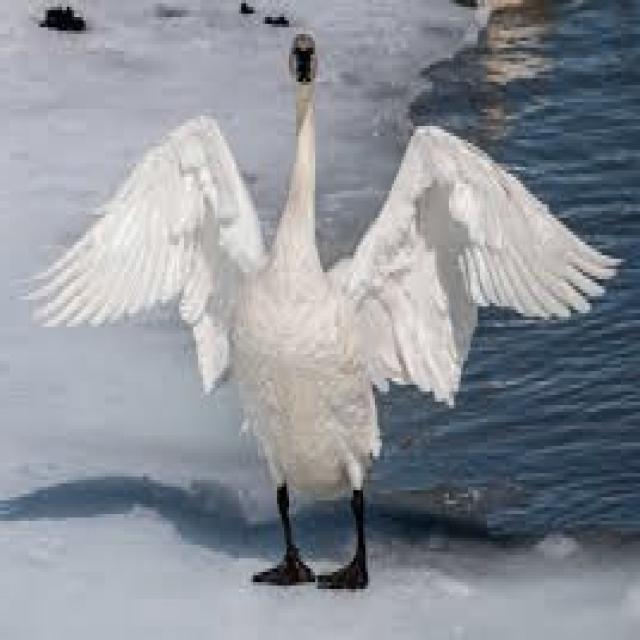swan: (36, 34, 616, 587)
